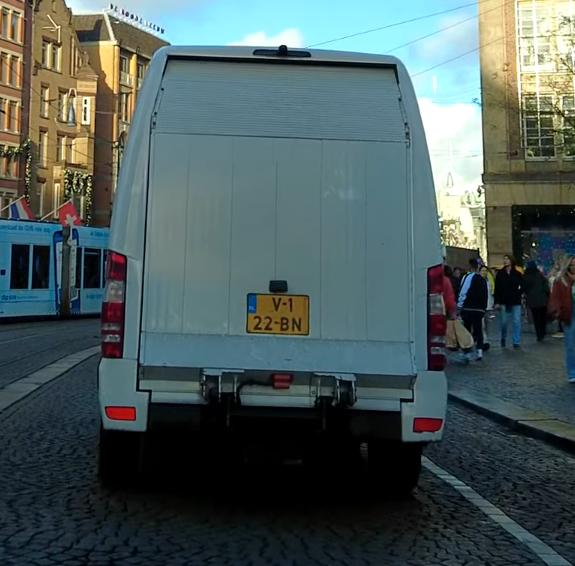license-plate: (247, 292, 311, 336)
